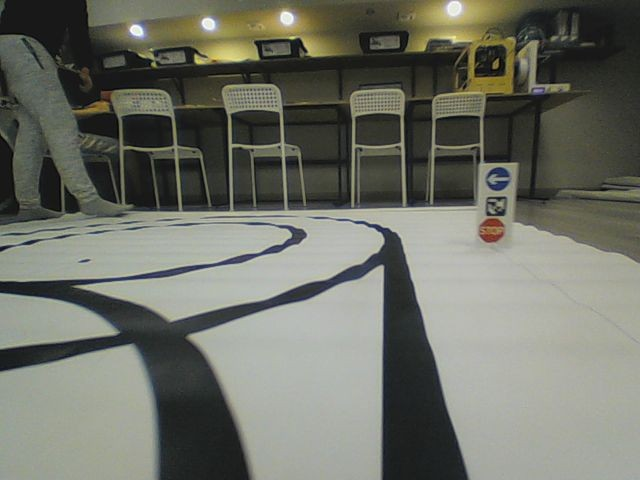Stop: (477, 217, 506, 244)
